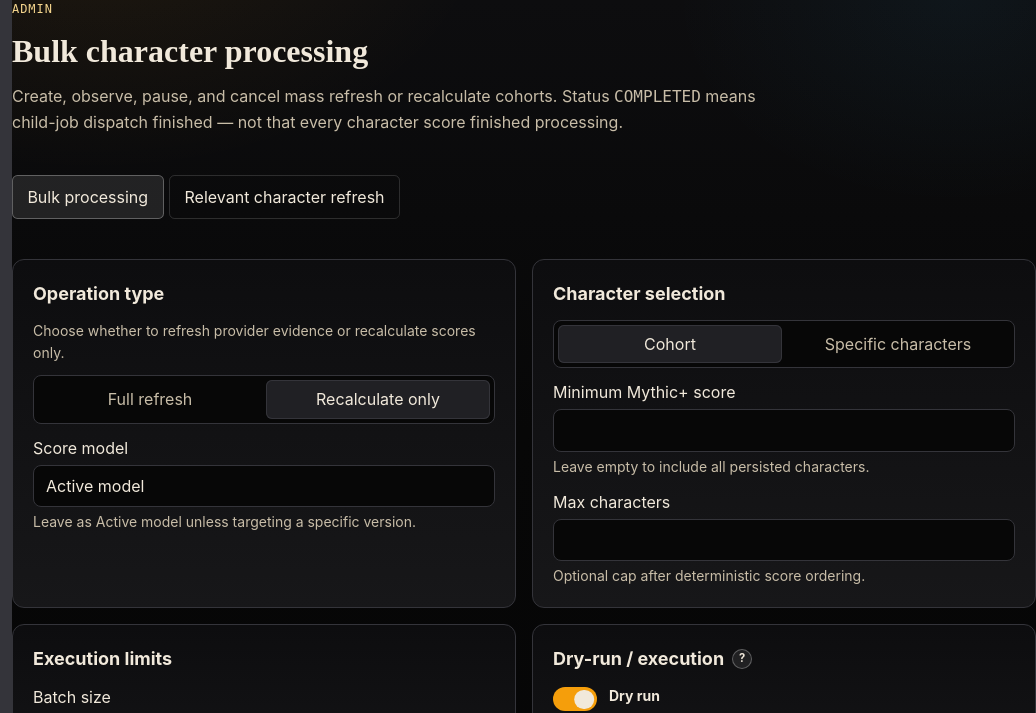
Test: AdminBulkProcessingPage › requires at least one character in explicit mode
Click the button with test id "bulk-selection-explicit" at (898, 344), box [786,325,1010,364]
(page scrolled)
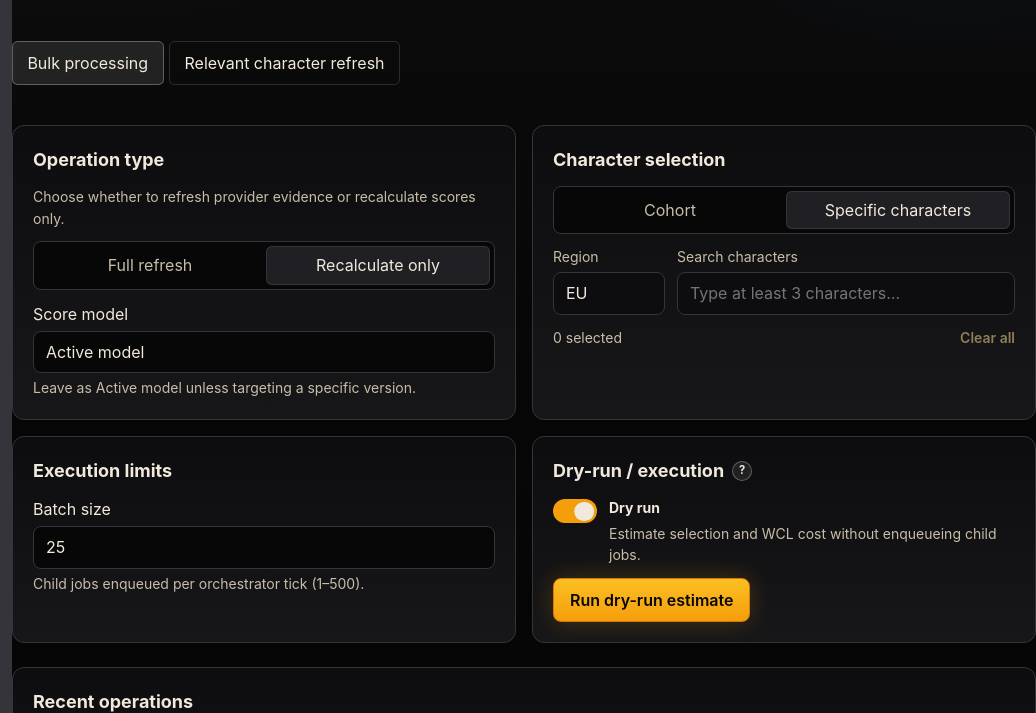
Submit the form with test id "bulk-create-form"
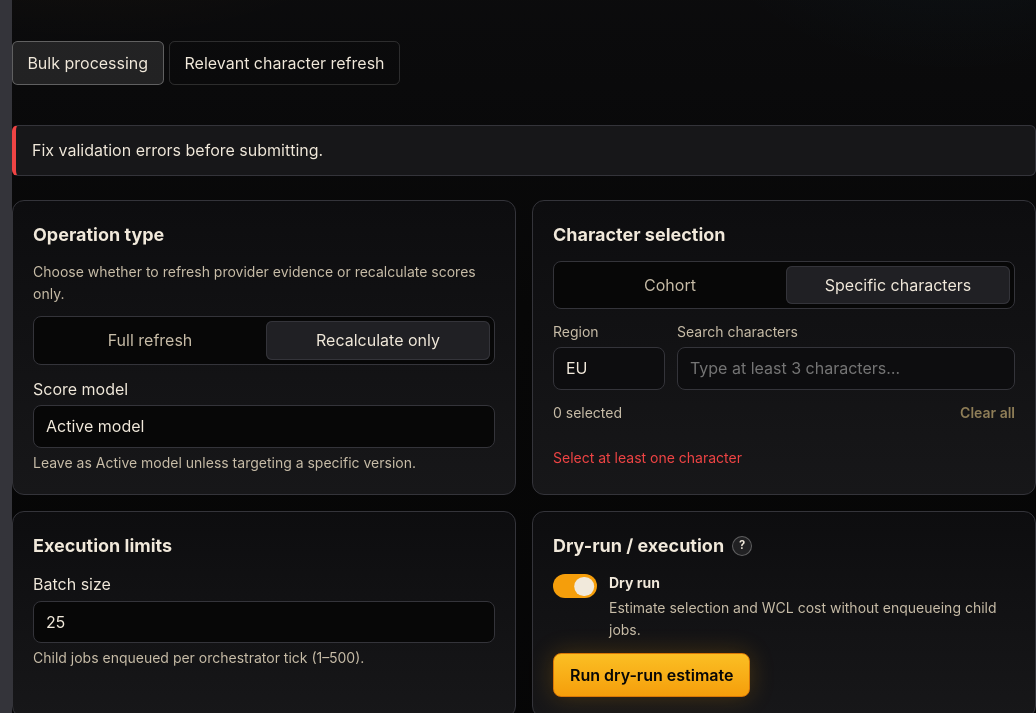
Now the text "at least one character" is shown, box [553,449,742,466]
